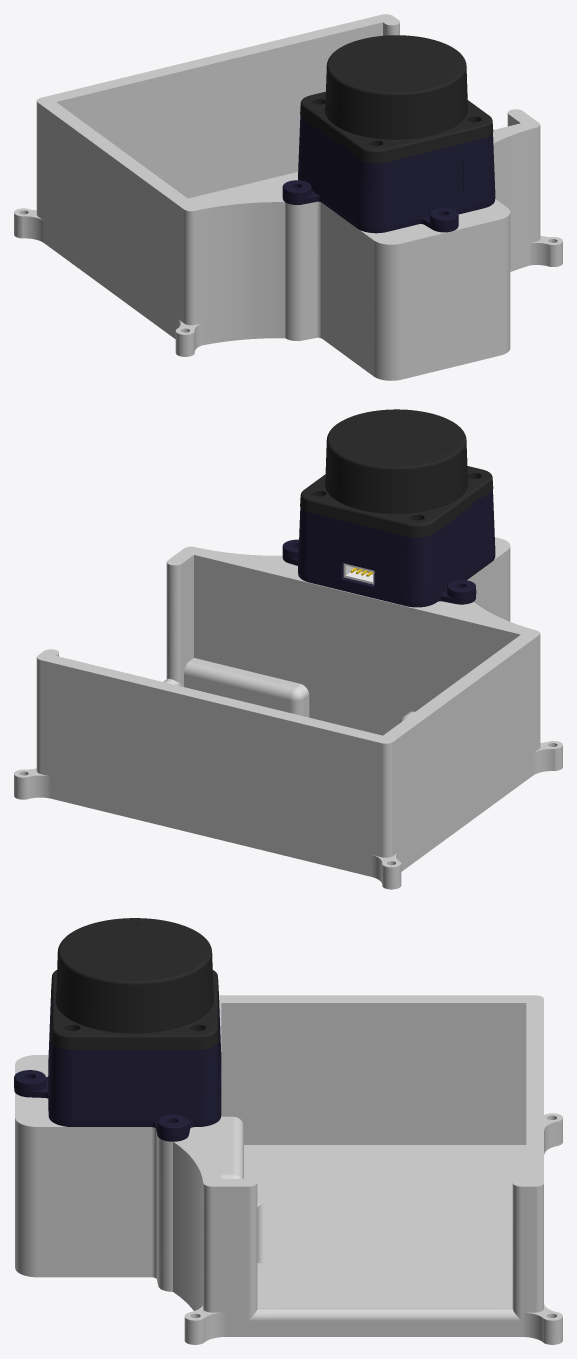
The model's file is Lidar_Mounting_Plate.dae.
3 views of the same model, one above another, from view 1: azimuth 30°, elevation 25°; view 2: azimuth 150°, elevation 25°; view 3: azimuth 270°, elevation 25° (orthographic). The views are drawn at different scales.
Visible parts, largest first — view 1: Lidar_Mounting_Plate; view 2: Lidar_Mounting_Plate; view 3: Lidar_Mounting_Plate.
Part boxes in pixels (box(x1,y1,x2,y2)): Lidar_Mounting_Plate: box(14, 14, 562, 380); Lidar_Mounting_Plate: box(14, 409, 562, 889); Lidar_Mounting_Plate: box(14, 918, 562, 1344).
Bounding box in the file's own units: 0.1094 × 0.1225 × 0.0718.
